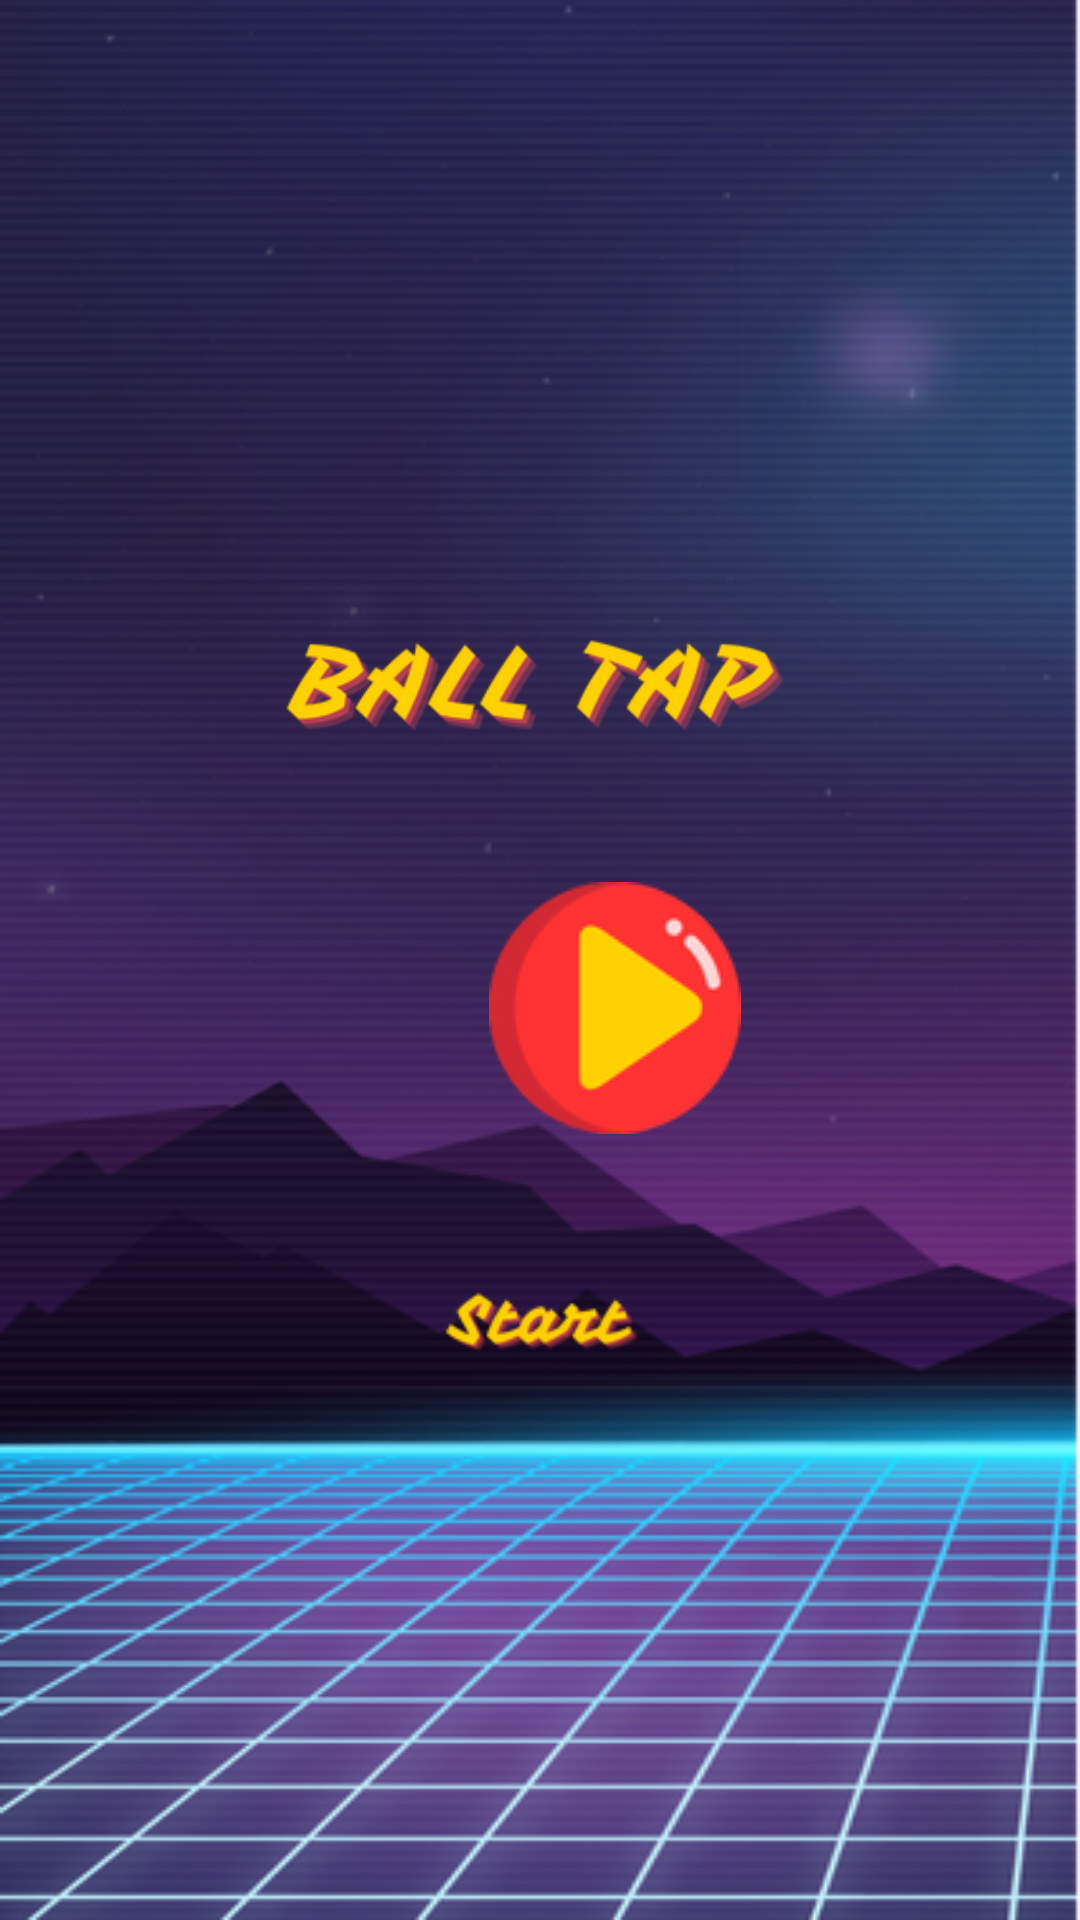

Icons on this 1080×1920 Android screen, each with the point to tap as [x,y]:
tapbutton: [615,1008]
